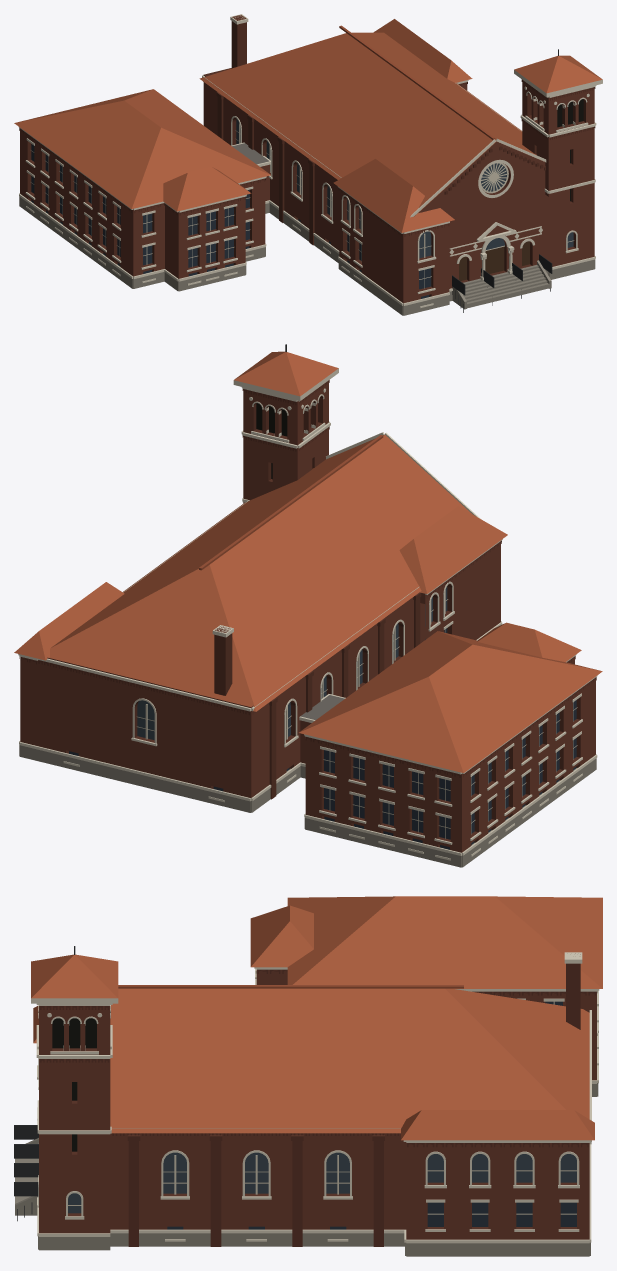
File: ch-second-presbyterian-1961.glb
The picture shows the model from 3 angles, top to bottom: view 1: azimuth 30°, elevation 25°; view 2: azimuth 150°, elevation 25°; view 3: azimuth 270°, elevation 25°; orthographic projection. The views are drawn at different scales.
Visible parts, largest first — view 1: ch_tile, ch_brick, ch_trim, ch_brick2, ch_base, ch_glass, ch_stain, ch_door, ch_trc, ch_lead, ch_tile2, ch_iron; view 2: ch_tile, ch_brick, ch_trim, ch_brick2, ch_base, ch_glass, ch_stain, ch_tile2, ch_lead; view 3: ch_tile, ch_brick, ch_trim, ch_brick2, ch_base, ch_stain, ch_glass, ch_iron, ch_tile2, ch_shadow, ch_lead.
Boxes of the visible parts, bbox=[...] form: ch_tile: bbox=[14, 19, 602, 232]; ch_brick: bbox=[20, 68, 594, 303]; ch_trim: bbox=[19, 14, 602, 307]; ch_brick2: bbox=[19, 15, 595, 296]; ch_base: bbox=[19, 197, 595, 315]; ch_glass: bbox=[31, 144, 431, 298]; ch_stain: bbox=[236, 119, 573, 258]; ch_door: bbox=[459, 241, 529, 280]; ch_trc: bbox=[239, 123, 508, 257]; ch_lead: bbox=[30, 130, 574, 288]; ch_tile2: bbox=[339, 25, 495, 139]; ch_iron: bbox=[452, 49, 558, 312]; ch_tile: bbox=[14, 351, 602, 772]; ch_brick: bbox=[20, 381, 595, 852]; ch_trim: bbox=[18, 368, 597, 860]; ch_brick2: bbox=[19, 380, 596, 847]; ch_base: bbox=[19, 745, 596, 867]; ch_glass: bbox=[69, 628, 576, 849]; ch_stain: bbox=[137, 586, 447, 740]; ch_tile2: bbox=[199, 435, 383, 570]; ch_lead: bbox=[136, 599, 577, 845]; ch_tile: bbox=[31, 896, 602, 1140]; ch_brick: bbox=[39, 969, 596, 1239]; ch_trim: bbox=[31, 952, 599, 1243]; ch_brick2: bbox=[40, 953, 596, 1246]; ch_base: bbox=[15, 1083, 598, 1256]; ch_stain: bbox=[68, 1152, 576, 1213]; ch_glass: bbox=[167, 1001, 576, 1229]; ch_iron: bbox=[14, 946, 75, 1221]; ch_tile2: bbox=[118, 985, 463, 988]; ch_shadow: bbox=[52, 1018, 96, 1151]; ch_lead: bbox=[68, 1001, 576, 1214].
Bounding box in the file's own units: 40.05 × 21.9 × 39.8.
